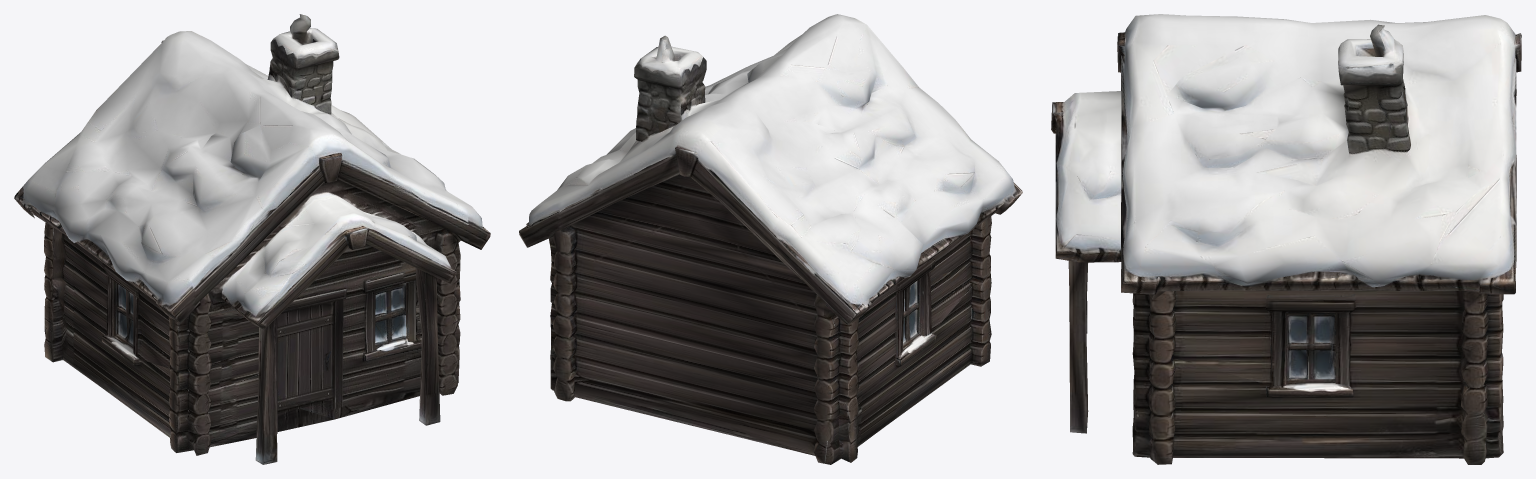
File: cabin.glb
The picture shows the model from 3 angles, left to right: view 1: azimuth 30°, elevation 25°; view 2: azimuth 150°, elevation 25°; view 3: azimuth 270°, elevation 25°; orthographic projection. The views are drawn at different scales.
Visible parts, largest first — view 1: Mesh_0; view 2: Mesh_0; view 3: Mesh_0.
Boxes of the visible parts, left/top/right/bottom form: Mesh_0: left=14, top=14, right=490, bottom=464; Mesh_0: left=519, top=14, right=1022, bottom=464; Mesh_0: left=1051, top=14, right=1521, bottom=464.
Size of the model in its own units: 1.88 by 1.77 by 1.9.
Materials: 1 (1 with a texture image).
